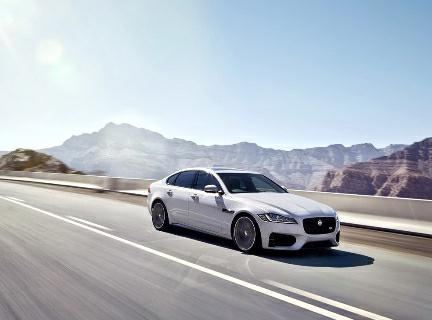捷豹-XF: (143, 165, 349, 263)
